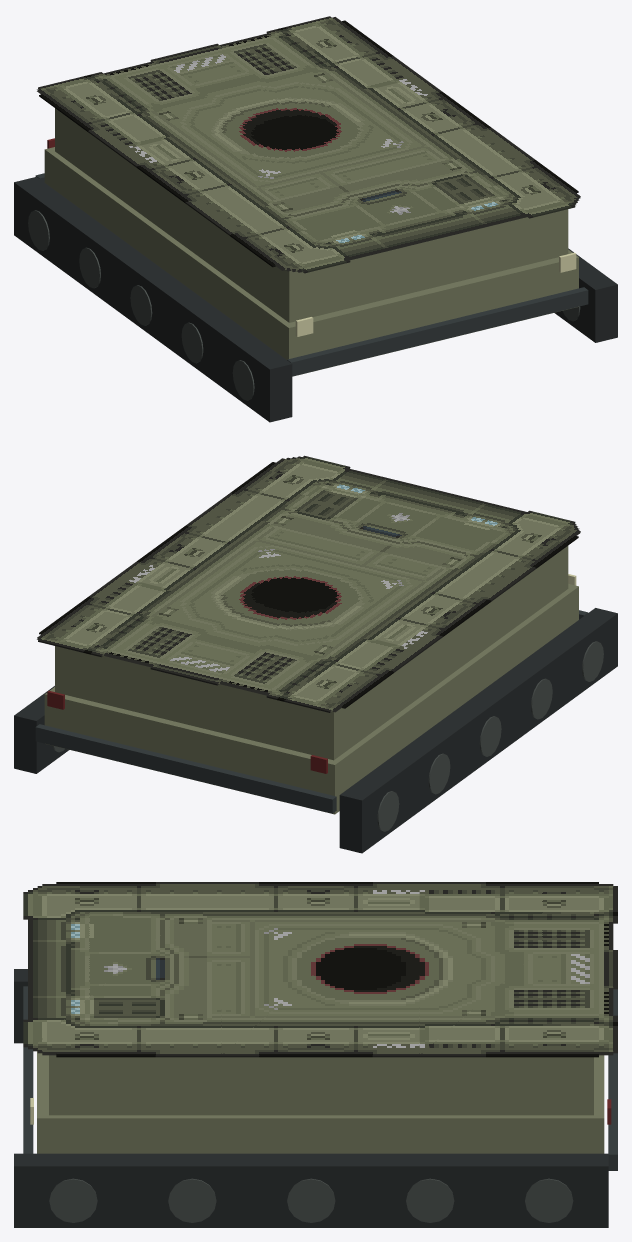
Rendered from CMU3DReduxVehicleSPPTank.glb.
3 views of the same model, one above another, from view 1: azimuth 30°, elevation 25°; view 2: azimuth 150°, elevation 25°; view 3: azimuth 270°, elevation 25° (orthographic). The views are drawn at different scales.
Parts seen in each view (by area): view 1: source hull roof panel (×3), upper hull, continuous track (×2), closed lower chassis, front bumper, track road wheel (×5); view 2: source hull roof panel (×3), upper hull, closed lower chassis, continuous track (×2), rear bumper, track road wheel (×5); view 3: source hull roof panel (×3), continuous track (×2), upper hull, closed lower chassis, track road wheel (×5), front bumper, rear bumper.
Part boxes in pixels (left/top/right/bottom): source hull roof panel (×3): left=37, top=16, right=580, bottom=273; upper hull: left=55, top=108, right=568, bottom=322; continuous track (×2): left=14, top=177, right=617, bottom=422; closed lower chassis: left=44, top=147, right=578, bottom=376; front bumper: left=287, top=287, right=588, bottom=376; track road wheel (×5): left=28, top=210, right=254, bottom=400; source hull roof panel (×3): left=37, top=455, right=580, bottom=712; upper hull: left=55, top=546, right=568, bottom=760; closed lower chassis: left=44, top=584, right=578, bottom=814; continuous track (×2): left=14, top=608, right=617, bottom=853; rear bumper: left=35, top=724, right=336, bottom=813; track road wheel (×5): left=377, top=641, right=603, bottom=831; source hull roof panel (×3): left=23, top=882, right=617, bottom=1057; continuous track (×2): left=14, top=969, right=608, bottom=1227; upper hull: left=49, top=1055, right=593, bottom=1115; closed lower chassis: left=37, top=1051, right=604, bottom=1153; track road wheel (×5): left=49, top=1178, right=573, bottom=1222; front bumper: left=23, top=986, right=33, bottom=1153; rear bumper: left=608, top=989, right=617, bottom=1170.
Size of the model in its own units: 3.11 by 1.17 by 4.
9 materials, 3 textured.
